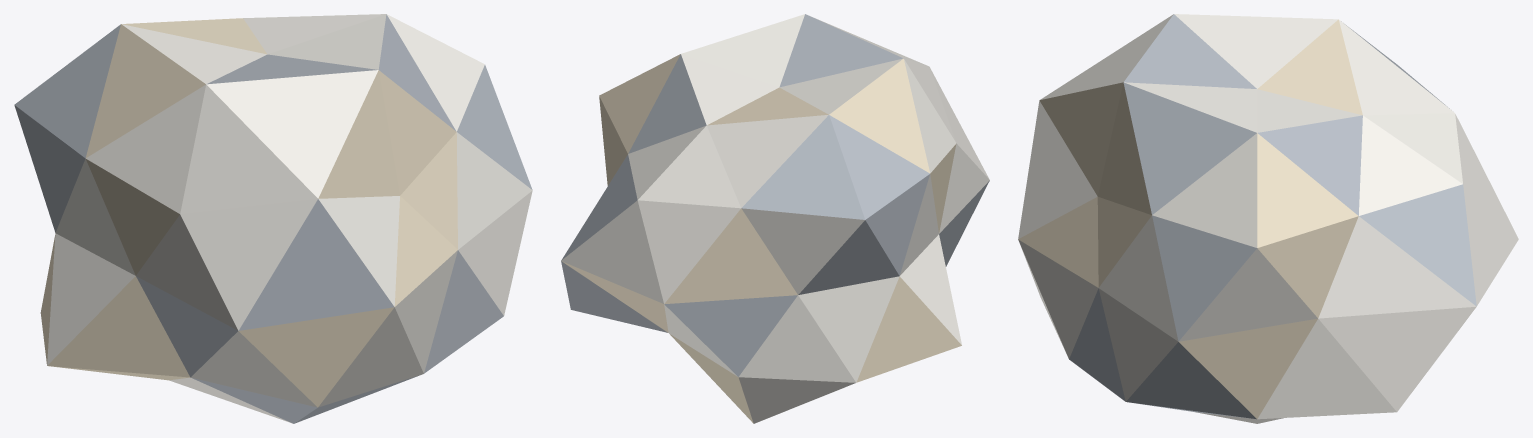
The model's file is J_PaperBall.fbx.
3 renders of one model, left to right at view 1: azimuth 30°, elevation 25°; view 2: azimuth 150°, elevation 25°; view 3: azimuth 270°, elevation 25°, orthographic. The views are drawn at different scales.
Parts seen in each view (by area): view 1: J_PaperBall; view 2: J_PaperBall; view 3: J_PaperBall.
Boxes of the visible parts, bbox=[...] form: J_PaperBall: bbox=[14, 14, 532, 423]; J_PaperBall: bbox=[561, 14, 989, 423]; J_PaperBall: bbox=[1018, 14, 1518, 423].
Size of the model in its own units: 0.3454 by 0.2859 by 0.3589.
